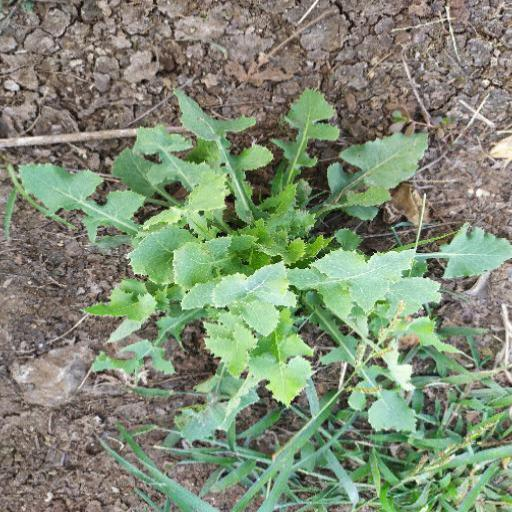weed: (32, 93, 512, 440)
